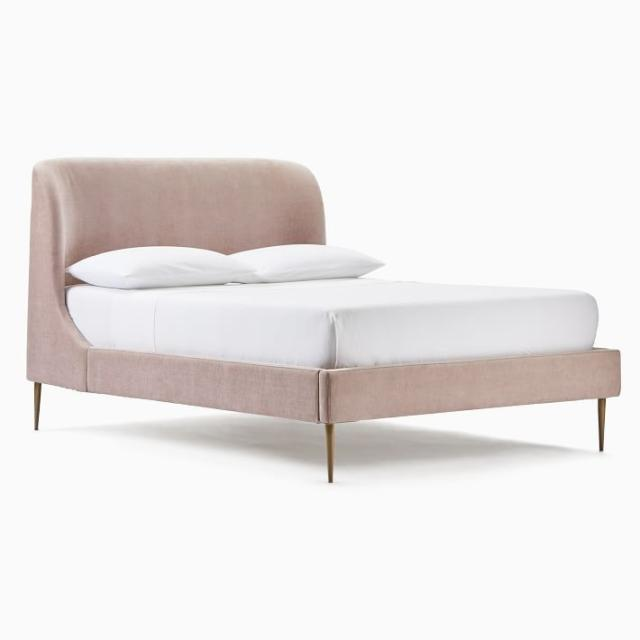obstacle: (25, 155, 621, 483)
